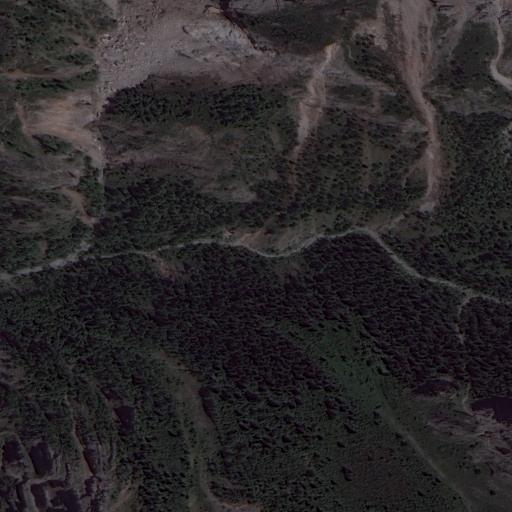landslide: (364, 1, 445, 219), (93, 2, 264, 91), (24, 92, 107, 178)
